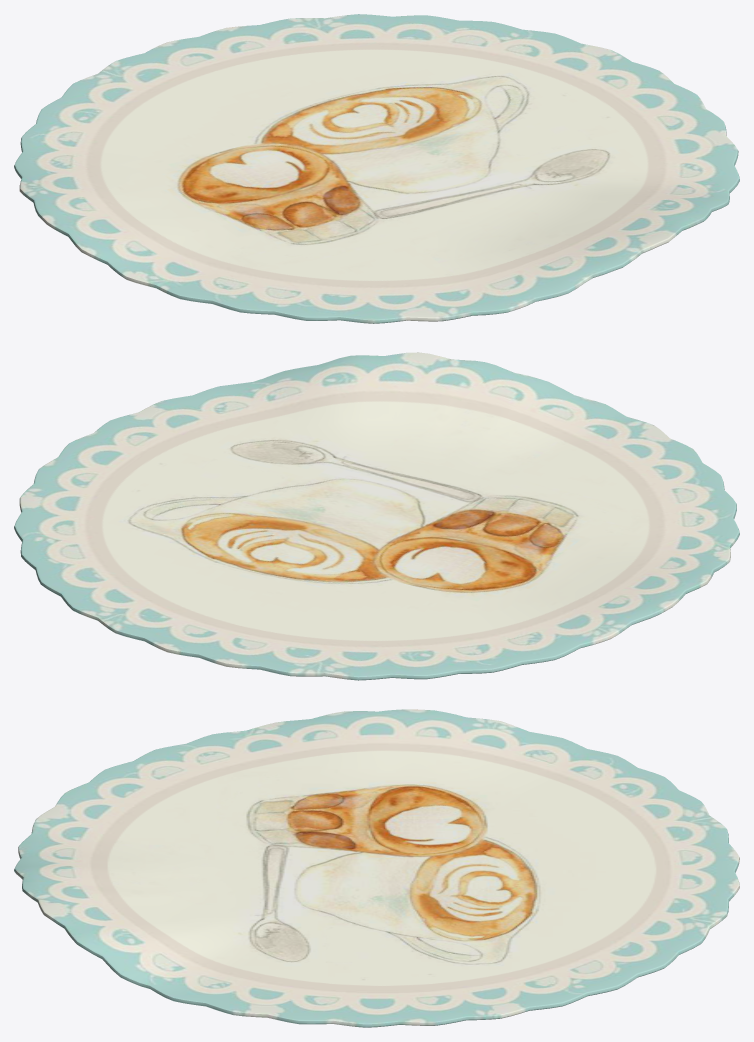
The model's file is carpet.obj.
The picture shows the model from 3 angles, top to bottom: view 1: azimuth 30°, elevation 25°; view 2: azimuth 150°, elevation 25°; view 3: azimuth 270°, elevation 25°; orthographic projection.
Parts seen in each view (by area): view 1: _Carpet:pCylinder1 group62; view 2: _Carpet:pCylinder1 group62; view 3: _Carpet:pCylinder1 group62.
Boxes of the visible parts, x1,y1,x2,y2 form: _Carpet:pCylinder1 group62: (14,14,739,323); _Carpet:pCylinder1 group62: (14,352,739,680); _Carpet:pCylinder1 group62: (14,709,739,1027).
Size of the model in its own units: 160 by 5.74 by 160.
